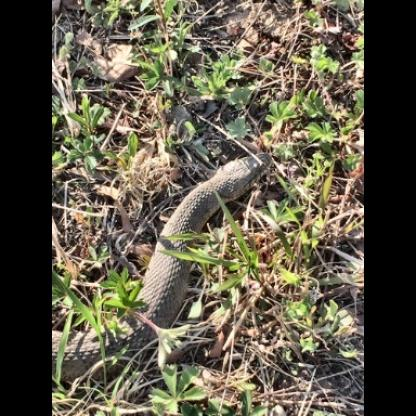Snake: (71, 144, 276, 371)
